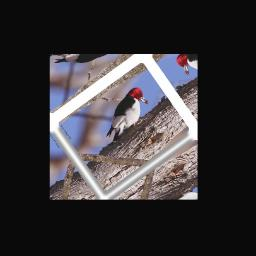Woodpecker: (93, 84, 157, 145)
